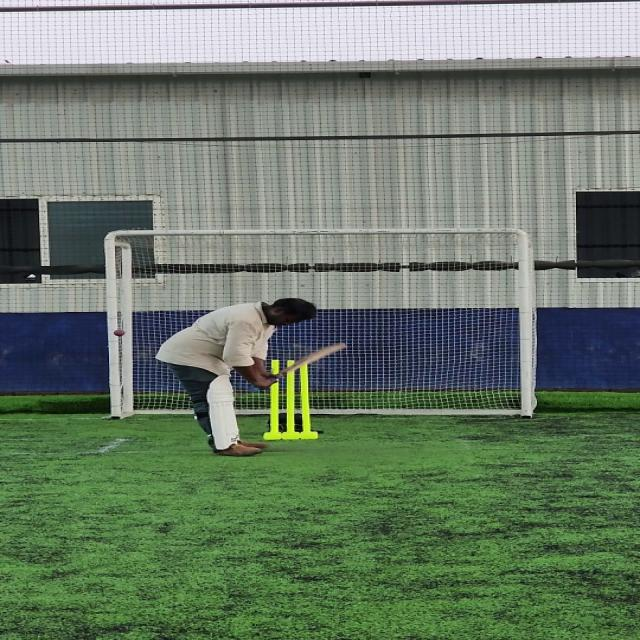ball: (108, 327, 127, 337)
stump: (263, 355, 320, 444)
